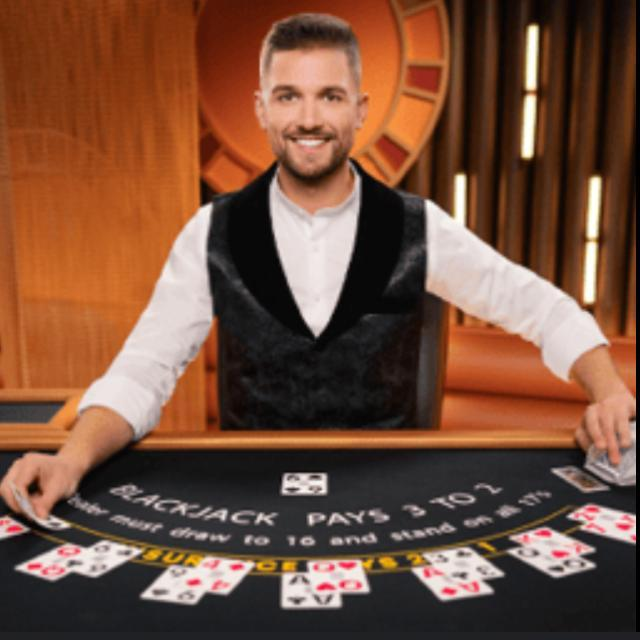Card-2: (565, 502, 637, 529)
Card-3: (423, 547, 503, 583)
Card-4: (186, 555, 254, 594)
Card-6: (64, 537, 143, 577), (281, 472, 327, 495)
Card-7: (581, 520, 635, 543)
Card-9: (143, 562, 205, 603)
Card-A: (411, 564, 495, 603), (281, 570, 340, 608)
Card-K: (511, 524, 593, 556)
Card-Q: (14, 539, 88, 580), (508, 543, 595, 576), (308, 560, 369, 594)
